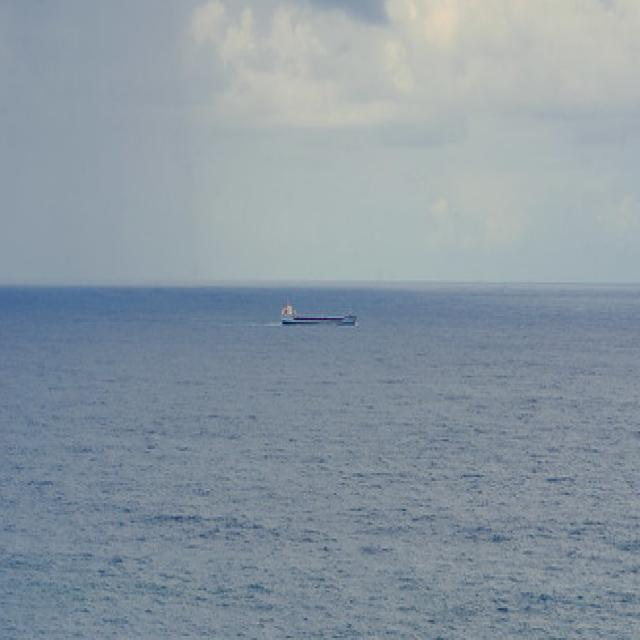cargoship: (278, 298, 356, 327)
